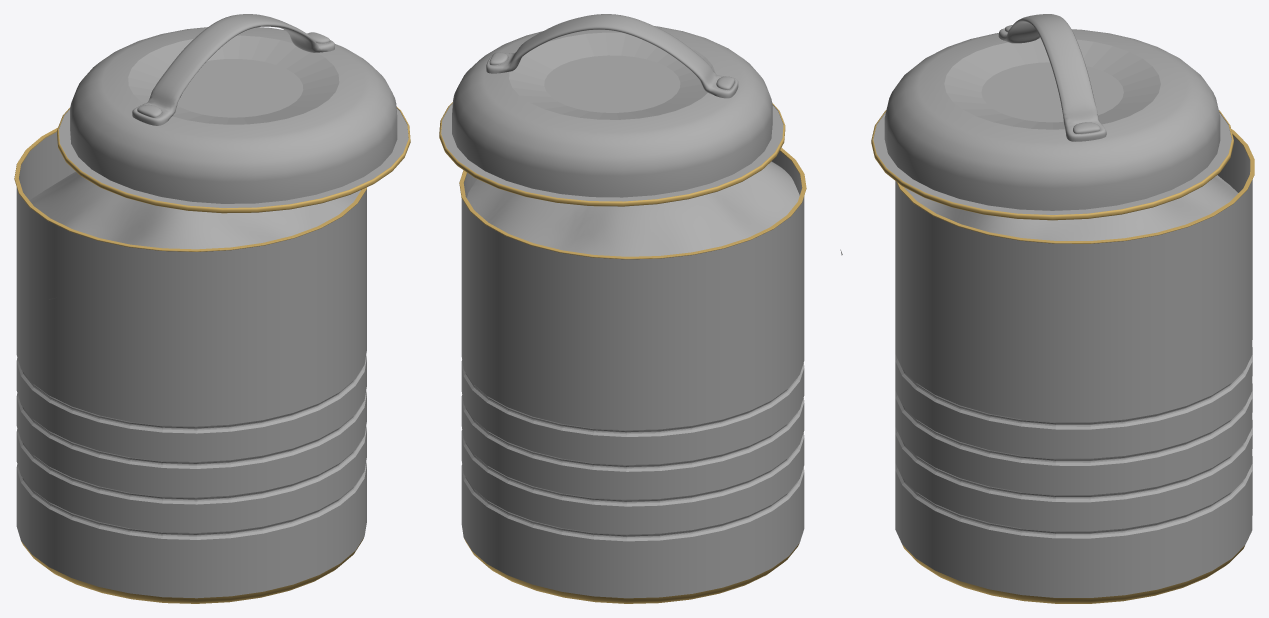
File: jarwithflour5.fbx
3 views of the same model, side by side, from view 1: azimuth 30°, elevation 25°; view 2: azimuth 150°, elevation 25°; view 3: azimuth 270°, elevation 25° (orthographic). The views are drawn at different scales.
Visible parts, largest first — view 1: Cylinder002, Cap, barrel.001; view 2: Cylinder002, Cap, barrel.001; view 3: Cylinder002, Cap, barrel.001.
Boxes of the visible parts, x1=… form: Cylinder002: x1=14, y1=127, x2=366, y2=603; Cap: x1=57, y1=14, x2=410, y2=213; barrel.001: x1=29, y1=171, x2=360, y2=299; Cylinder002: x1=459, y1=147, x2=806, y2=603; Cap: x1=439, y1=14, x2=785, y2=206; barrel.001: x1=467, y1=161, x2=842, y2=256; Cylinder002: x1=895, y1=129, x2=1254, y2=603; Cap: x1=871, y1=14, x2=1233, y2=220; barrel.001: x1=904, y1=175, x2=1238, y2=240.
Size of the model in its own units: 295 by 398 by 263.
